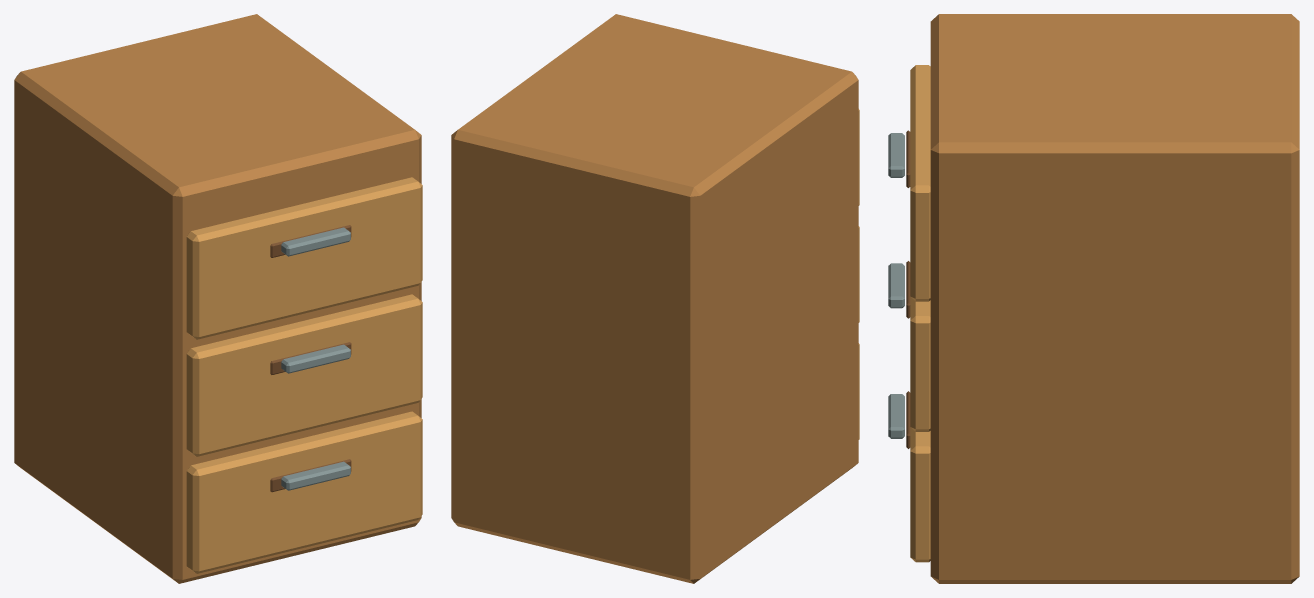
The model's file is cabinet_drawers.glb.
3 renders of one model, left to right at view 1: azimuth 30°, elevation 25°; view 2: azimuth 150°, elevation 25°; view 3: azimuth 270°, elevation 25°, orthographic. The views are drawn at different scales.
Parts seen in each view (by area): view 1: cabinet_drawers__oak, cabinet_drawers__oak_top, cabinet_drawers__metal_light, cabinet_drawers__oak_dark; view 2: cabinet_drawers__oak, cabinet_drawers__oak_top; view 3: cabinet_drawers__oak, cabinet_drawers__oak_top, cabinet_drawers__metal_light, cabinet_drawers__oak_dark.
Part boxes in pixels (x1,y1,x2,y2): cabinet_drawers__oak: [14, 14, 421, 583]; cabinet_drawers__oak_top: [186, 177, 422, 573]; cabinet_drawers__metal_light: [281, 227, 350, 490]; cabinet_drawers__oak_dark: [270, 225, 351, 492]; cabinet_drawers__oak: [451, 14, 858, 583]; cabinet_drawers__oak_top: [858, 109, 859, 439]; cabinet_drawers__oak: [930, 14, 1299, 583]; cabinet_drawers__oak_top: [910, 65, 930, 562]; cabinet_drawers__metal_light: [888, 133, 904, 438]; cabinet_drawers__oak_dark: [906, 130, 910, 448].
Bounding box in the file's own units: 0.46 × 0.7 × 0.591.
